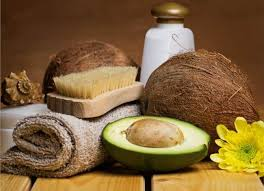aguacate: (100, 114, 216, 170)
